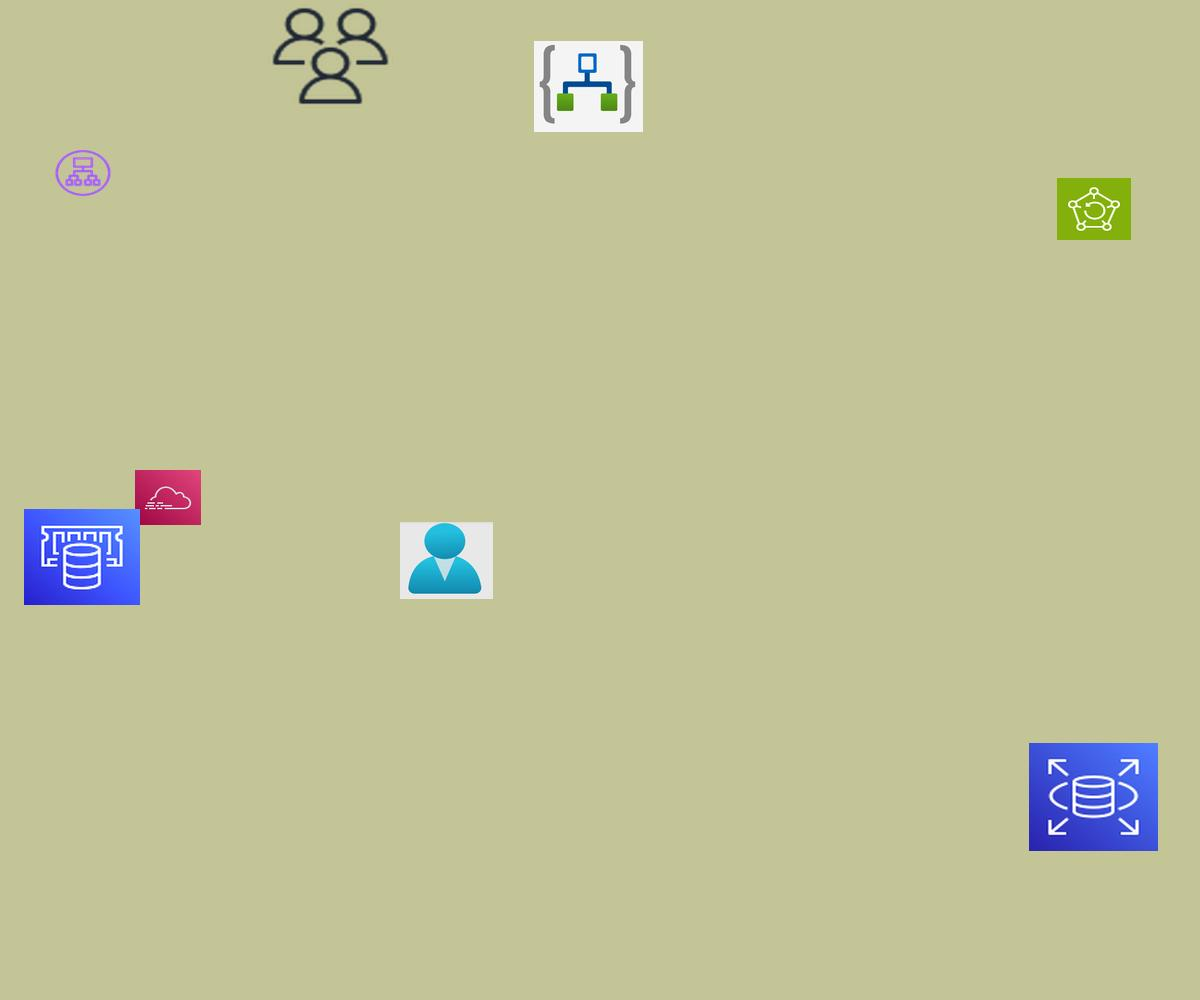AWS-Backup: (1057, 178, 1131, 240)
AWS-CloudTrail: (135, 470, 201, 525)
AWS-ElastiCache: (24, 509, 140, 605)
AWS-RDS: (1029, 743, 1158, 851)
AWS-Res_Elastic-Load-Balancing_Application-Load-Balancer: (53, 148, 113, 198)
AWS-Res_Users: (268, 4, 393, 108)
Azure_integration-204-Logic-Apps: (534, 41, 643, 132)
Azure_users: (400, 522, 493, 599)
